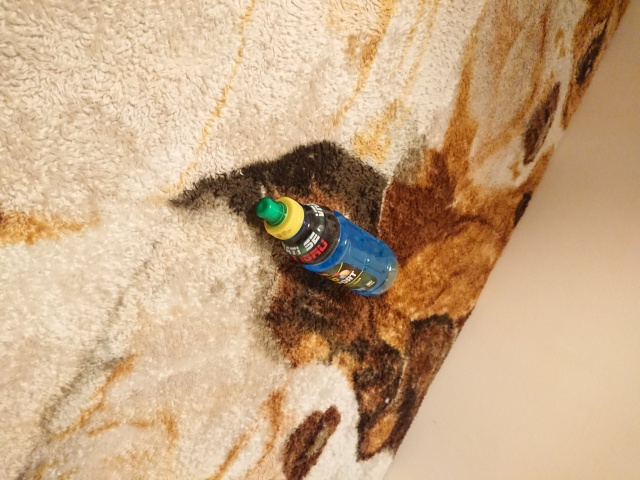Vindi Iso Sport Forest Strawberries 500mL: (254, 195, 401, 296)
